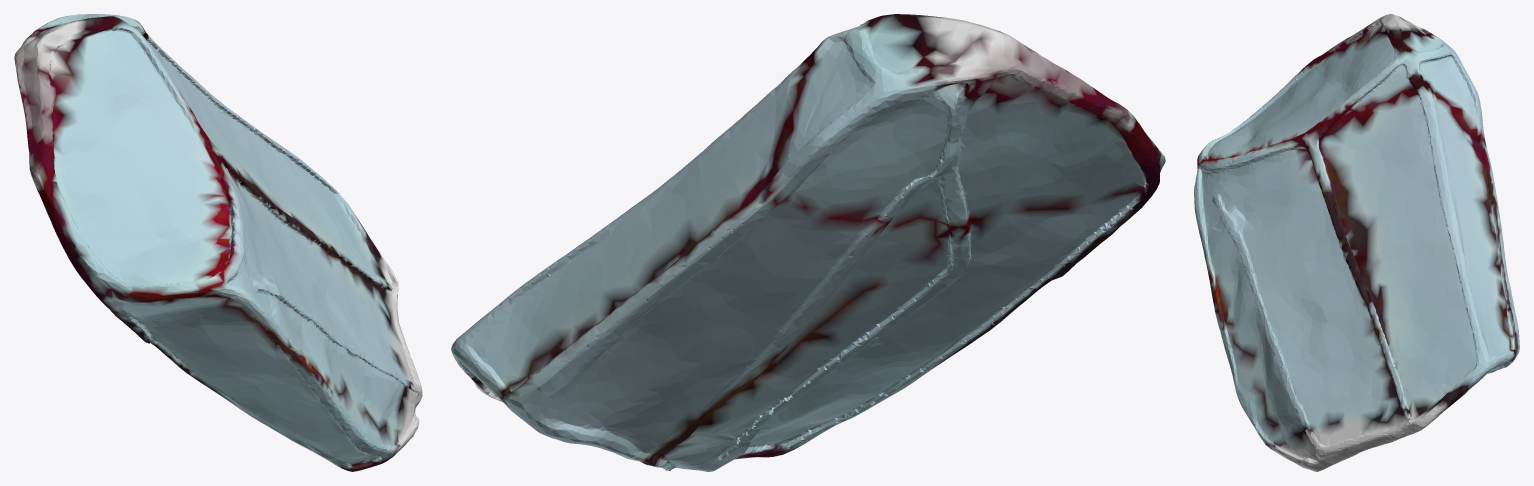
Rendered from aquamarine.glb.
3 views of the same model, side by side, from view 1: azimuth 30°, elevation 25°; view 2: azimuth 150°, elevation 25°; view 3: azimuth 270°, elevation 25° (orthographic). The views are drawn at different scales.
Parts seen in each view (by area): view 1: geometry_0; view 2: geometry_0; view 3: geometry_0.
Boxes of the visible parts, box(x1,y1,x2,y2) form: geometry_0: box(14, 14, 422, 471); geometry_0: box(451, 14, 1165, 471); geometry_0: box(1194, 14, 1519, 471).
Bounding box in the file's own units: 0.8125 × 0.8024 × 0.6877.
